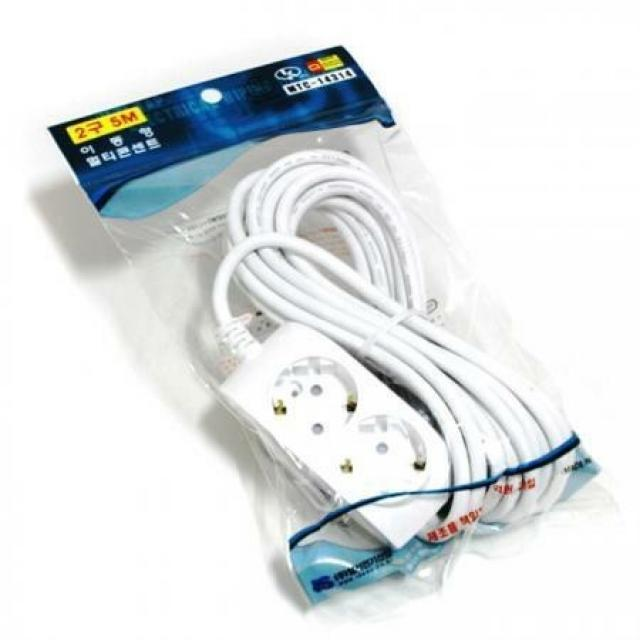typeb: (195, 297, 493, 524)
